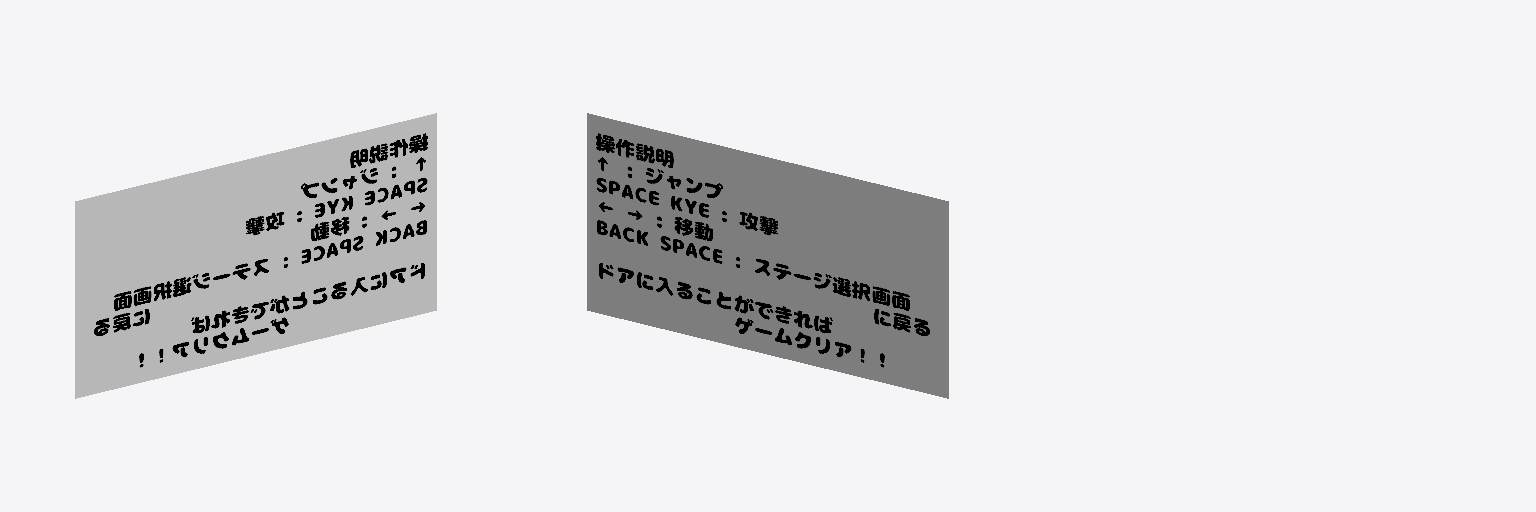
The picture shows the model from 3 angles: view 1: azimuth 30°, elevation 25°; view 2: azimuth 150°, elevation 25°; view 3: azimuth 270°, elevation 25°; orthographic projection.
Visible parts, largest first — view 1: 平面; view 2: 平面; view 3: none.
Boxes of the visible parts, x1=… form: 平面: x1=75, y1=113, x2=436, y2=398; 平面: x1=587, y1=113, x2=948, y2=398.
Bounding box in the file's own units: 2 × 1.04 × 0.
Materials: 1 (1 with a texture image).